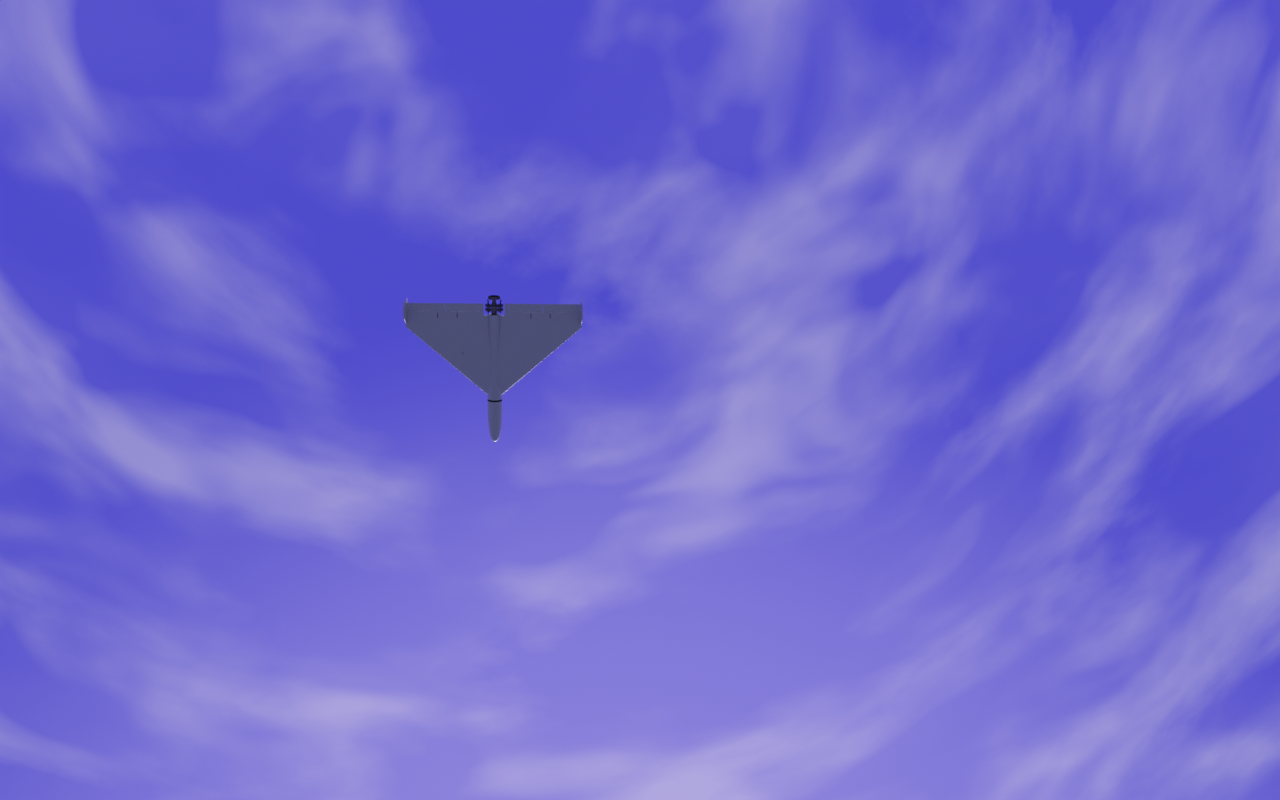shahed: (403, 295, 585, 444)
